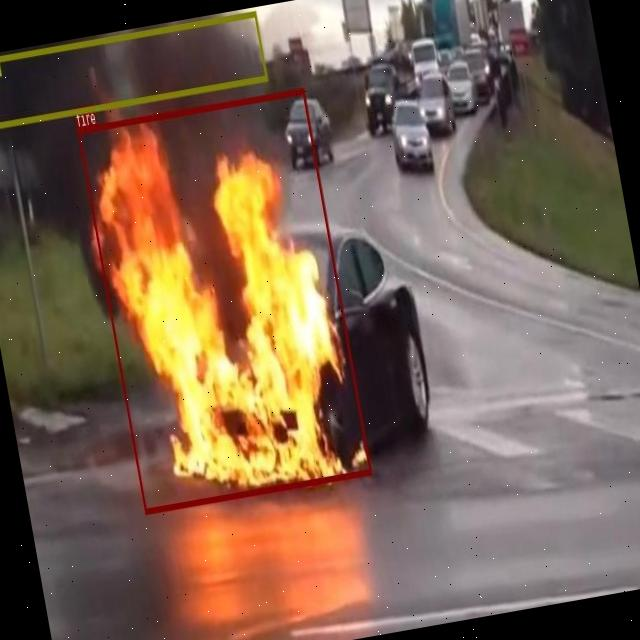fire: (76, 88, 372, 514)
smoke: (0, 11, 266, 129)
